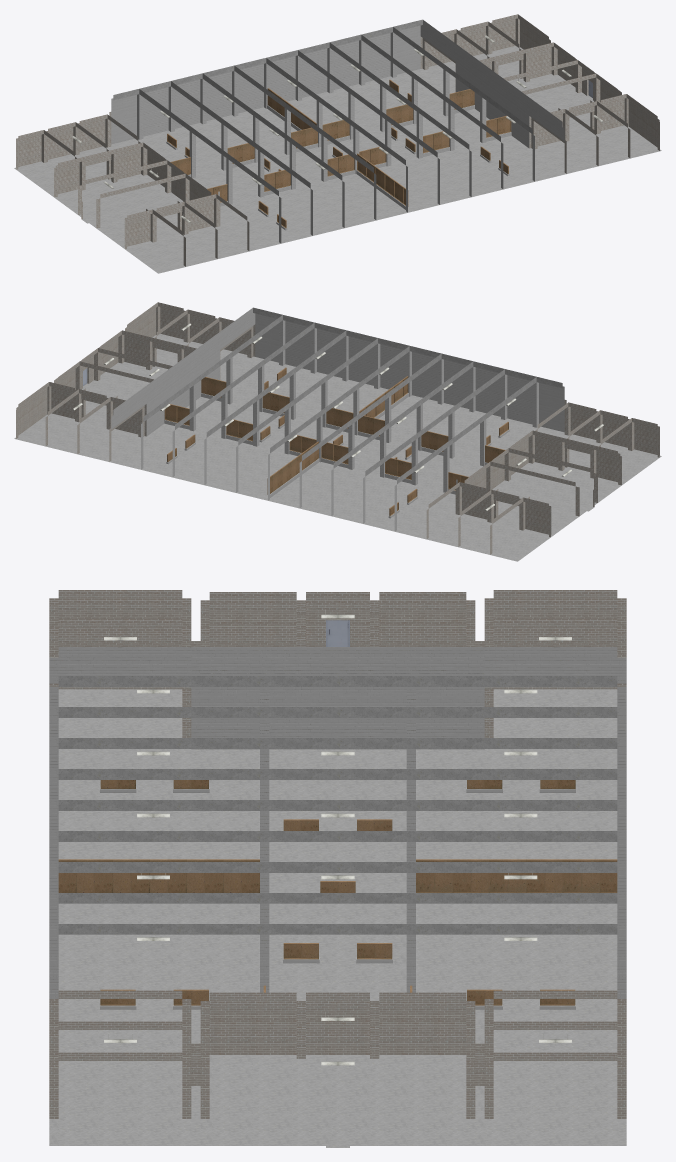
Rendered from Poligone.glb.
3 renders of one model, top to bottom at view 1: azimuth 30°, elevation 25°; view 2: azimuth 150°, elevation 25°; view 3: azimuth 270°, elevation 25°, orthographic. The views are drawn at different scales.
Visible parts, largest first — view 1: Poligone; view 2: Poligone; view 3: Poligone.
Boxes of the visible parts, x1=… form: Poligone: x1=14, y1=14, x2=661, y2=273; Poligone: x1=14, y1=302, x2=661, y2=561; Poligone: x1=49, y1=590, x2=626, y2=1147.
Size of the model in its own units: 70.07 by 6.74 by 34.5.
Materials: 7 (7 with a texture image).
